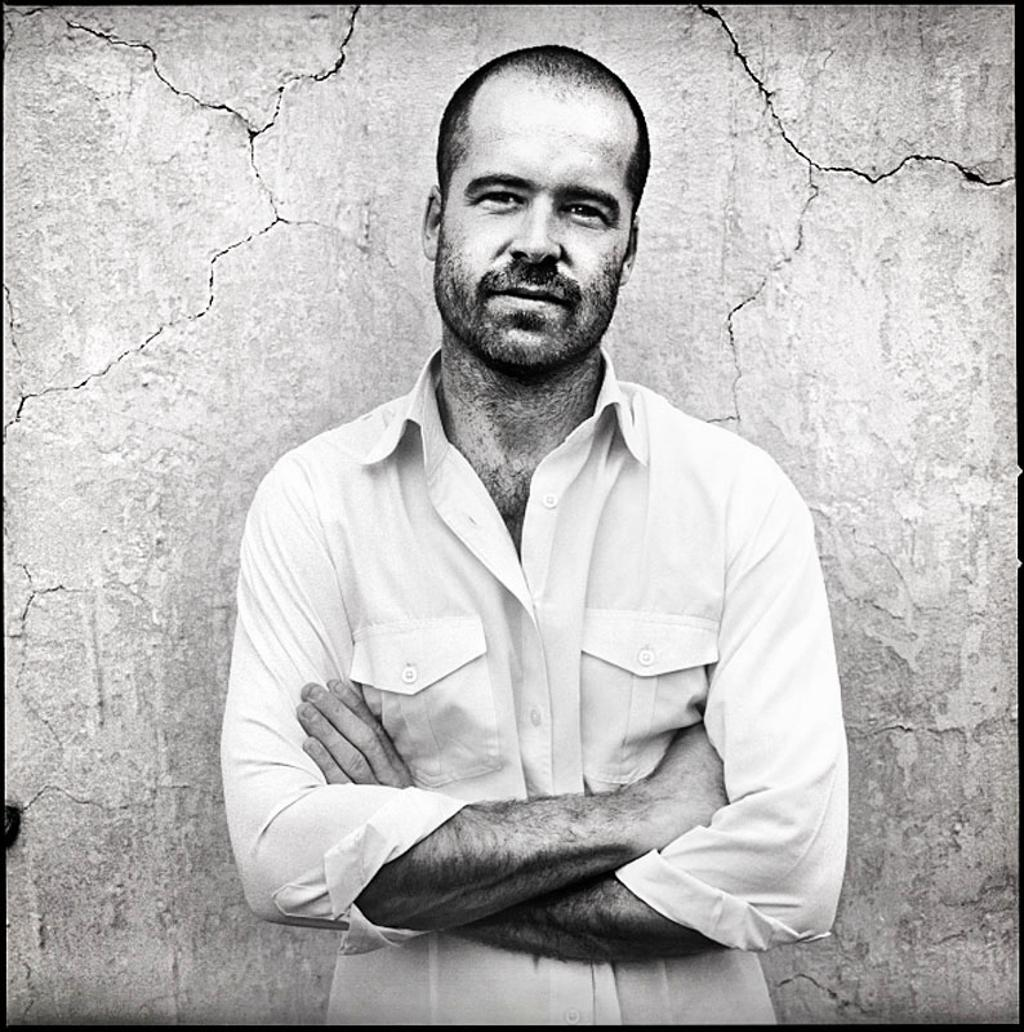face: (441, 71, 635, 367)
